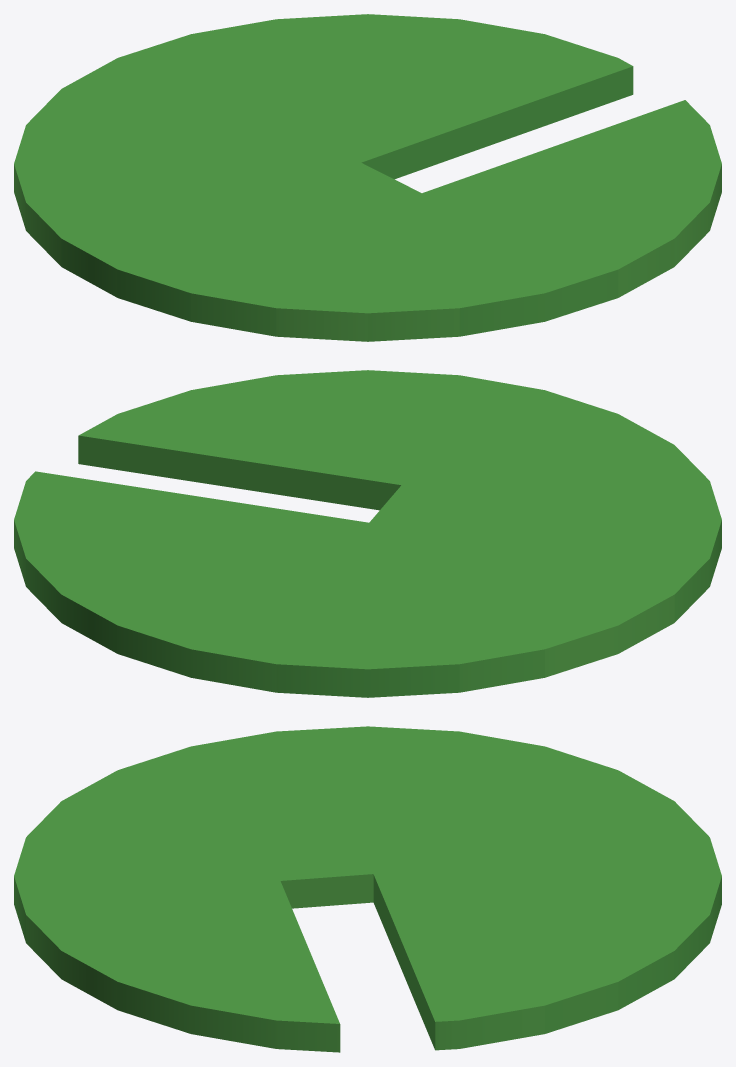
File: lily.glb
3 renders of one model, top to bottom at view 1: azimuth 30°, elevation 25°; view 2: azimuth 150°, elevation 25°; view 3: azimuth 270°, elevation 25°, orthographic.
Visible parts, largest first — view 1: lily; view 2: lily; view 3: lily.
Boxes of the visible parts, box(x1,y1,x2,y2) form: lily: box(14, 14, 721, 341); lily: box(14, 370, 721, 697); lily: box(14, 726, 721, 1052).
Size of the model in its own units: 0.8954 by 0.04 by 0.9.
